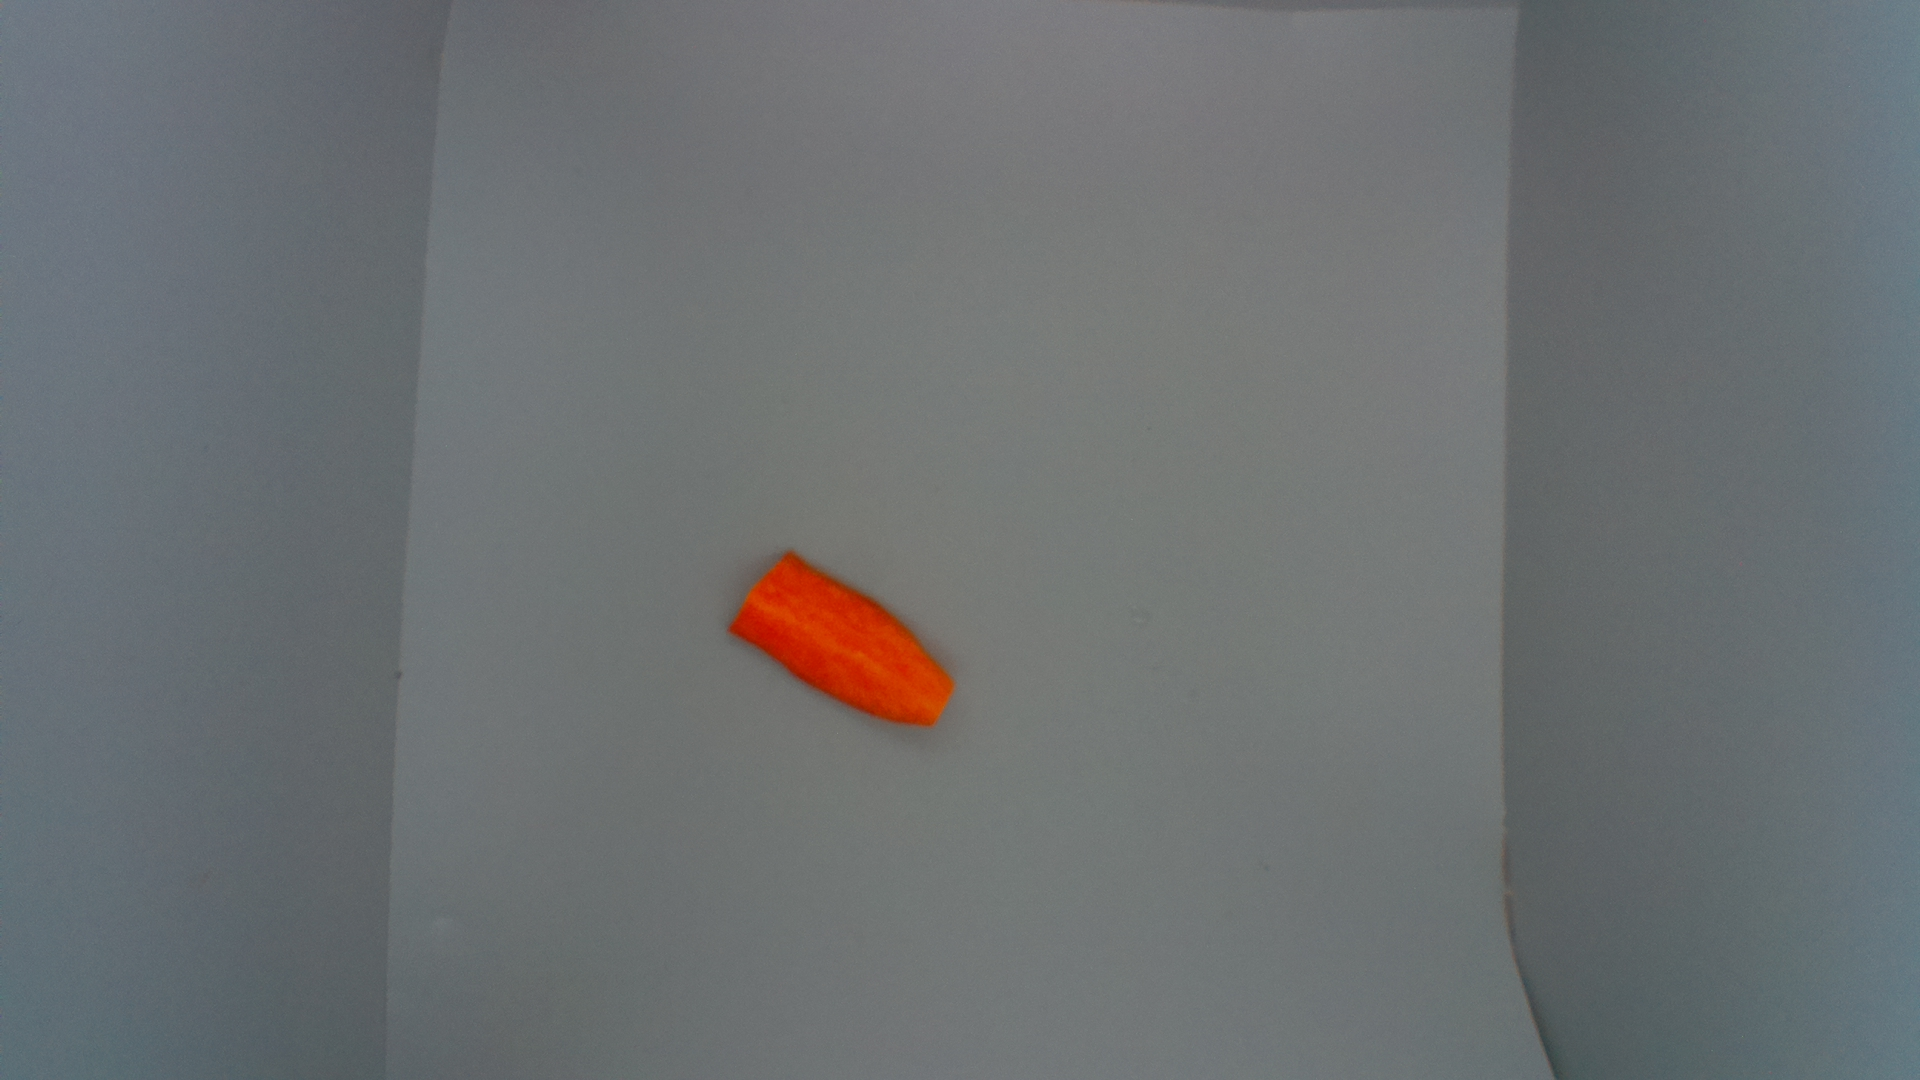carrot: (732, 550, 957, 731)
